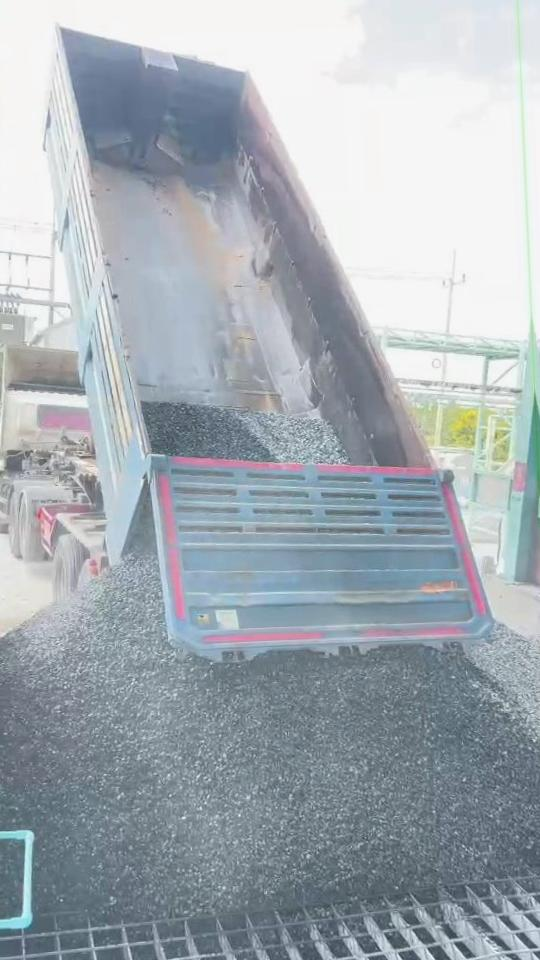gravel: (0, 541, 540, 915), (143, 403, 355, 463), (468, 624, 540, 739), (0, 838, 23, 918)
